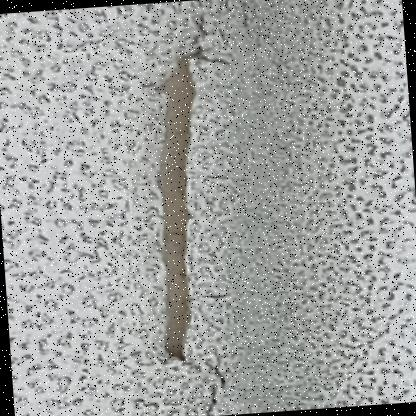Crack: (82, 0, 268, 415)
